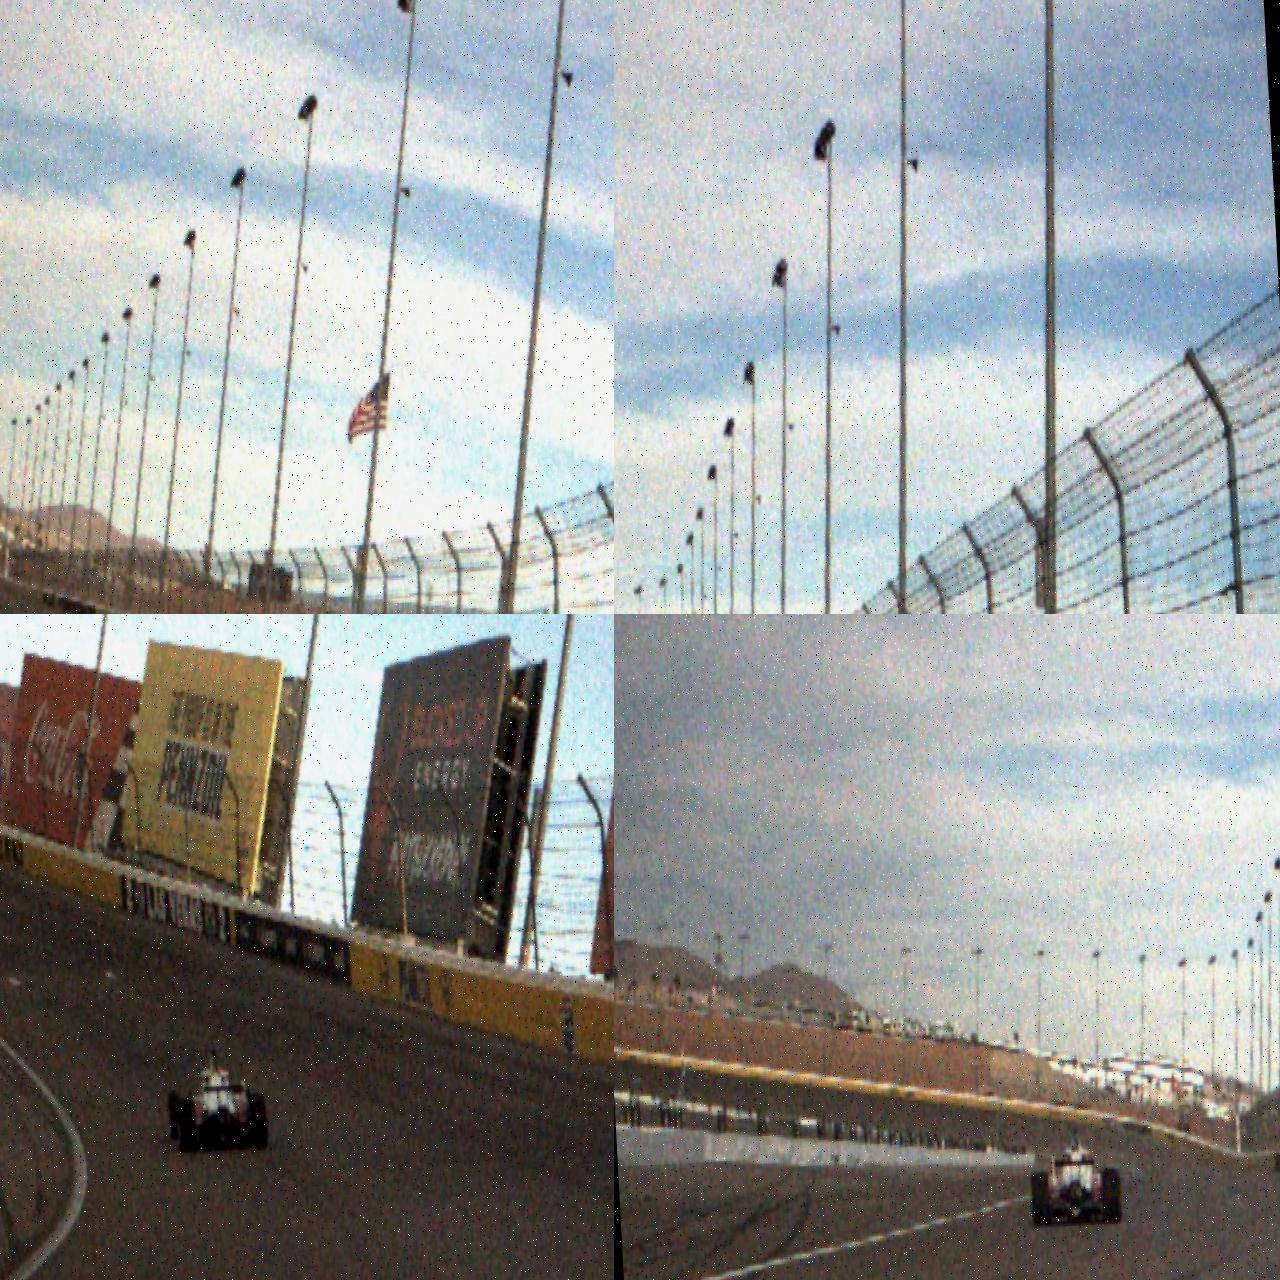AV: (164, 1044, 268, 1156), (1027, 1118, 1124, 1227)
Wheel: (1099, 1166, 1123, 1224), (1029, 1169, 1050, 1227), (177, 1096, 197, 1155), (248, 1091, 268, 1150), (168, 1090, 183, 1142)
